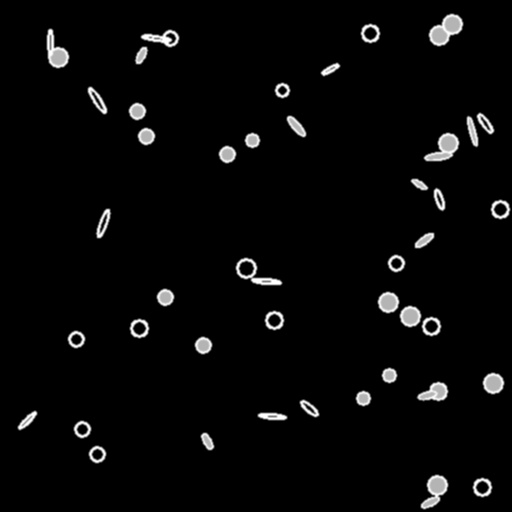pseudomonas: (87, 86, 107, 114), (285, 114, 307, 138), (95, 209, 111, 237), (17, 410, 37, 430), (476, 112, 494, 134), (466, 116, 478, 146), (299, 399, 319, 417), (414, 231, 434, 249), (420, 495, 440, 509), (320, 62, 340, 76), (433, 188, 445, 210), (425, 151, 451, 161), (200, 432, 214, 450), (251, 277, 281, 285), (142, 34, 170, 42), (259, 412, 285, 420), (417, 390, 437, 400), (135, 47, 147, 63), (411, 178, 427, 190), (47, 30, 52, 54)
synechocystis: (439, 134, 457, 152), (237, 259, 255, 277), (379, 293, 397, 311), (430, 26, 448, 44), (49, 48, 67, 66), (401, 307, 419, 325), (428, 476, 446, 494), (443, 15, 461, 33), (484, 374, 502, 392), (266, 312, 282, 328), (362, 25, 378, 41), (423, 318, 439, 334), (474, 479, 490, 495), (131, 320, 147, 336), (492, 201, 508, 217), (430, 383, 446, 399), (90, 447, 104, 461), (130, 104, 144, 118), (158, 290, 172, 304), (220, 147, 234, 161), (196, 338, 210, 352), (389, 256, 403, 270), (69, 332, 83, 346), (139, 129, 153, 143), (75, 422, 89, 436), (163, 31, 177, 45), (383, 369, 395, 381), (276, 84, 288, 96), (246, 134, 258, 146), (357, 392, 369, 404)
